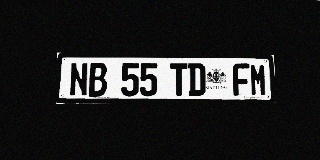5: (121, 63, 139, 96), (140, 63, 158, 96)
B: (88, 62, 107, 97)
D: (188, 63, 205, 96)
F: (233, 63, 250, 96)
M: (250, 64, 267, 96)
N: (69, 62, 88, 97)
T: (170, 63, 188, 96)
